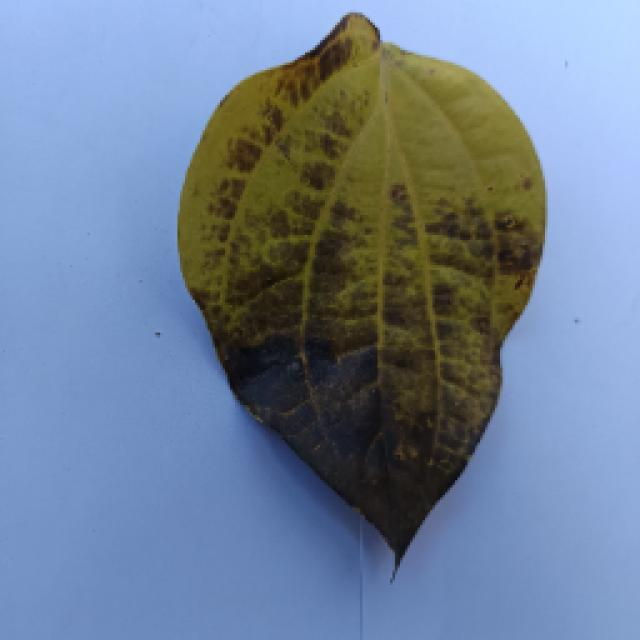slow-decline: (178, 15, 548, 573)
